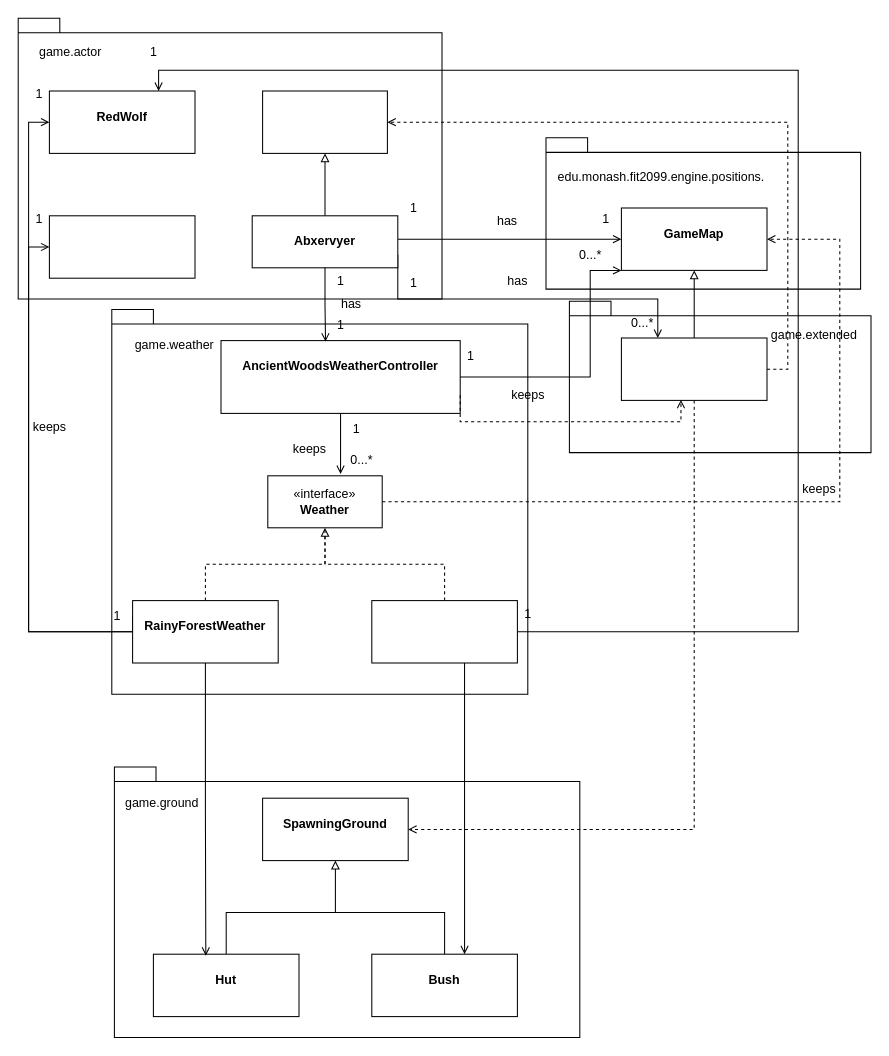
Some shapes in this 889 by 1056 pixel diagram are drawn without their labels. The shapes that lost their labels are listed below. From the top down, each one's box as (x1, y1, x2, y2) in pixels, then its label:
(262, 90, 387, 153): «abstract» EnemyActor
(48, 215, 195, 278): Forest Keeper
(620, 337, 767, 400): ForestGameMap
(371, 600, 517, 663): SunnyForestWeather
